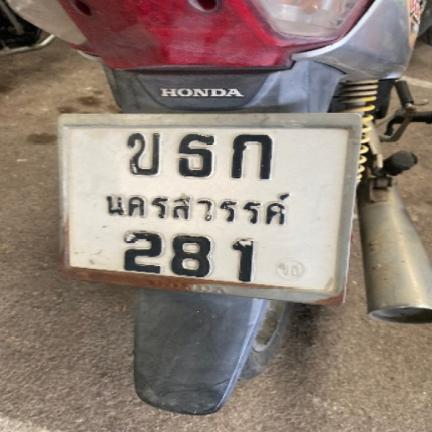1: (227, 232, 260, 284)
2: (117, 227, 162, 273)
8: (167, 230, 214, 278)
A01: (228, 130, 278, 181)
A02: (119, 128, 165, 177)
A24: (173, 128, 216, 178)
NSN: (102, 186, 291, 228)
